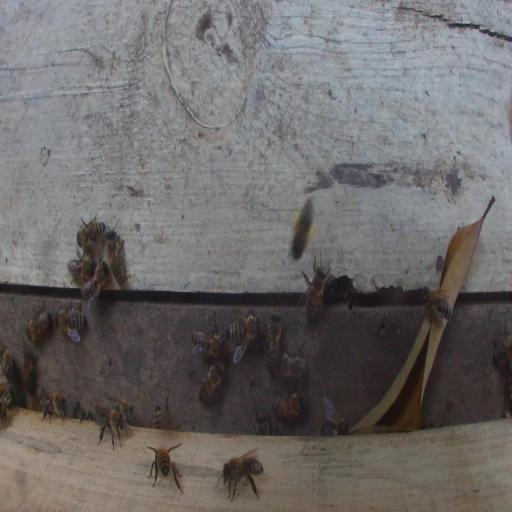nonpollenbee: (219, 448, 264, 502), (301, 256, 332, 321), (147, 442, 183, 493), (225, 314, 261, 362), (82, 261, 111, 305), (97, 407, 126, 450), (55, 302, 85, 343), (423, 287, 453, 327), (198, 361, 225, 404), (106, 231, 127, 286), (321, 397, 351, 435), (77, 217, 109, 251), (192, 327, 226, 358), (273, 390, 305, 421), (39, 389, 67, 423), (266, 311, 282, 368), (278, 349, 307, 379), (26, 308, 51, 342), (325, 274, 354, 302), (22, 348, 37, 397), (67, 259, 95, 284), (320, 418, 351, 436), (0, 384, 14, 420), (1, 346, 15, 381), (113, 400, 134, 422), (254, 411, 272, 436), (494, 345, 510, 371), (323, 397, 338, 423), (153, 404, 166, 429), (73, 405, 93, 421)
pollenbee: (292, 199, 314, 259)
